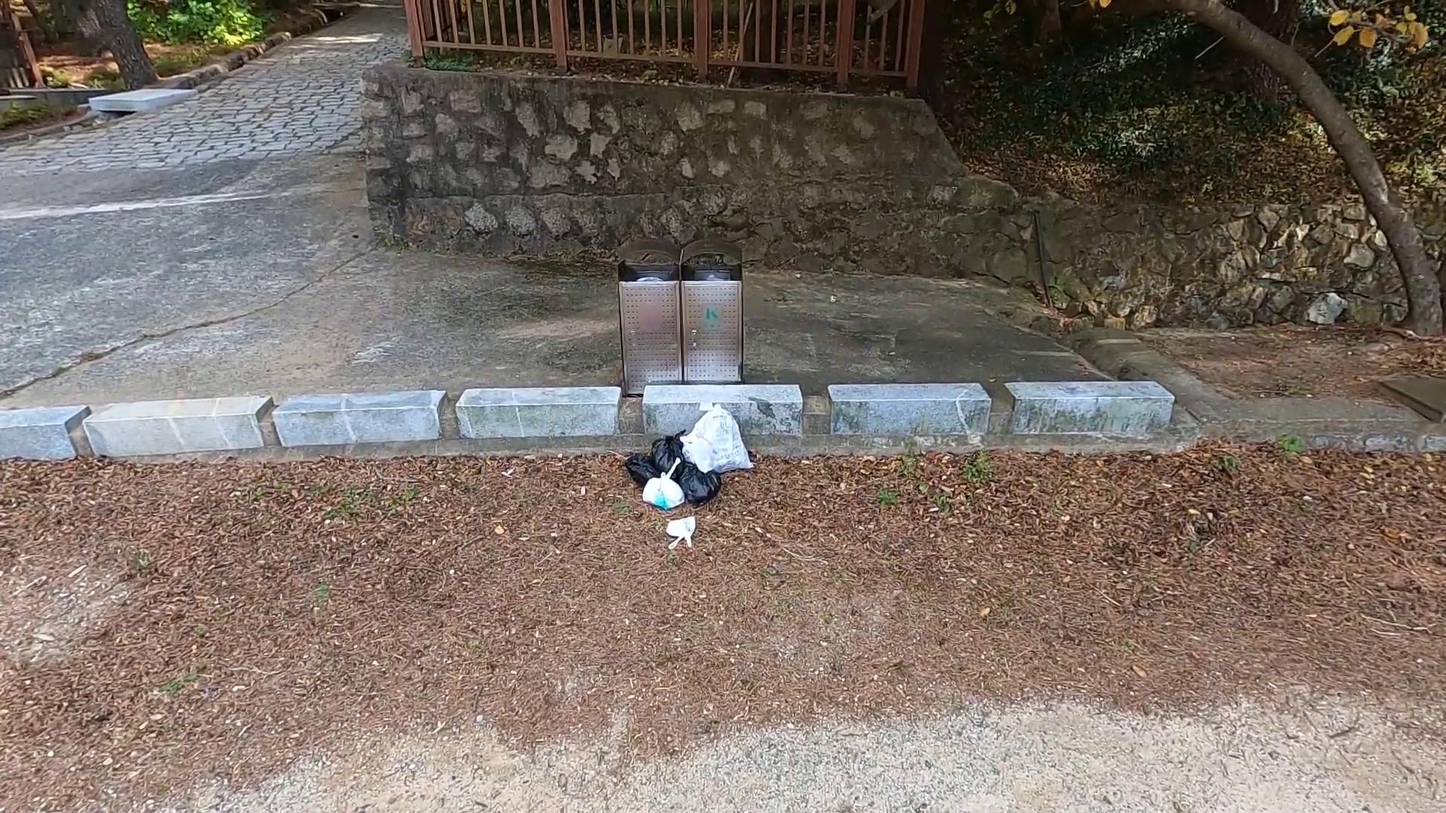trash: (679, 400, 757, 479), (641, 429, 685, 480), (644, 455, 685, 509), (677, 461, 727, 505), (625, 448, 666, 490), (663, 515, 702, 550)
